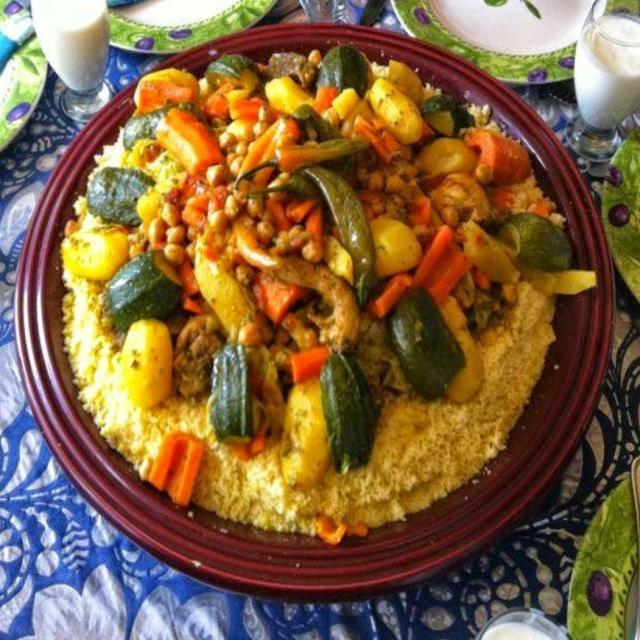Couscous: (44, 38, 586, 541)
